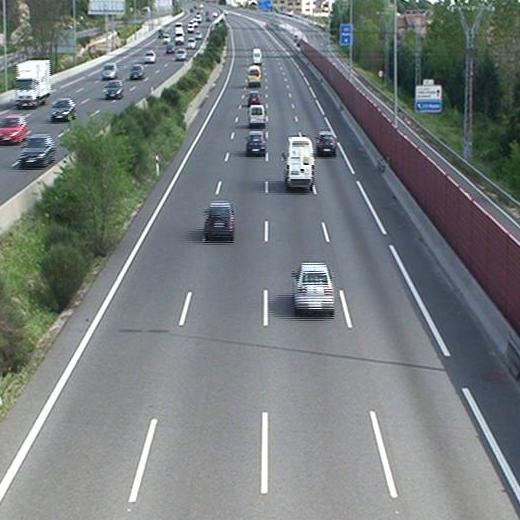car: (291, 263, 336, 314), (202, 203, 234, 240), (315, 132, 336, 156), (245, 132, 265, 155), (247, 90, 258, 103)
van: (281, 138, 315, 189), (248, 105, 265, 129), (245, 66, 260, 87), (251, 45, 263, 66)
